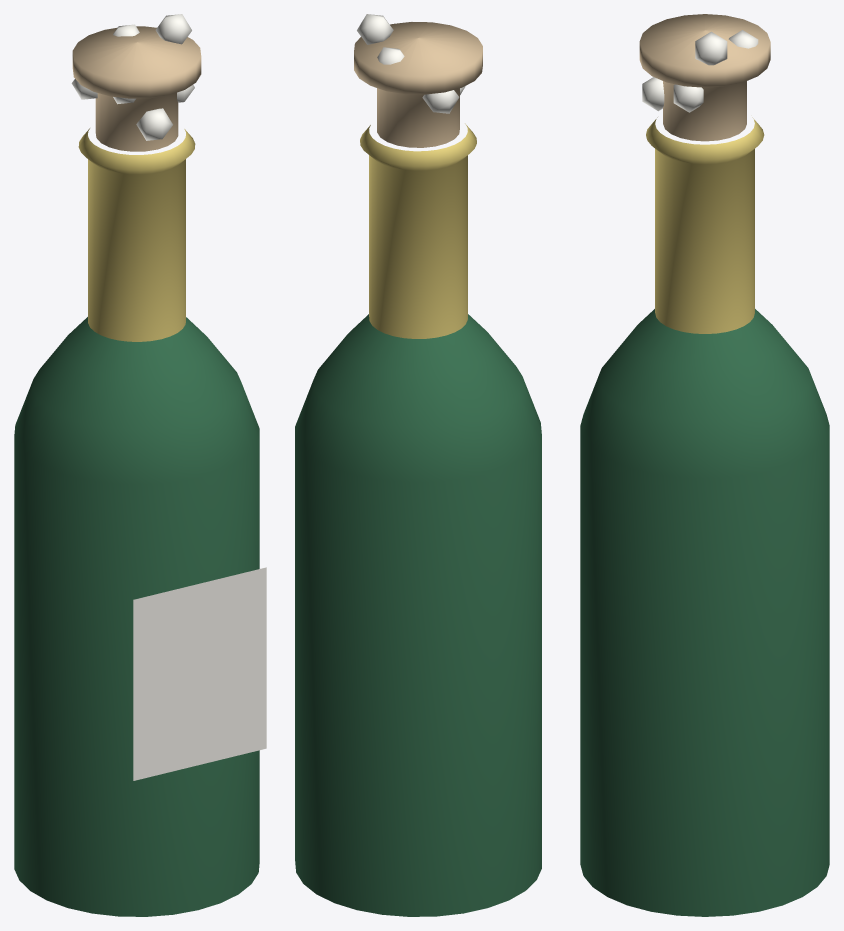
File: champagne.glb
The picture shows the model from 3 angles, left to right: view 1: azimuth 30°, elevation 25°; view 2: azimuth 150°, elevation 25°; view 3: azimuth 270°, elevation 25°; orthographic projection.
Visible parts, largest first — view 1: Bottle, Cork, FoamBurst5, FoamBurst4; view 2: Bottle, Cork, FoamBurst4, FoamBurst3; view 3: Bottle, Cork, FoamBurst4, FoamBurst0, FoamBurst5.
Boxes of the visible parts, bbox=[...] form: Bottle: bbox=[14, 128, 266, 916]; Cork: bbox=[72, 26, 201, 151]; FoamBurst5: bbox=[136, 108, 172, 140]; FoamBurst4: bbox=[155, 14, 191, 44]; Bottle: bbox=[295, 123, 541, 916]; Cork: bbox=[354, 22, 482, 147]; FoamBurst4: bbox=[357, 14, 393, 44]; FoamBurst3: bbox=[422, 90, 459, 113]; Bottle: bbox=[580, 117, 829, 916]; Cork: bbox=[639, 14, 770, 141]; FoamBurst4: bbox=[695, 31, 727, 65]; FoamBurst0: bbox=[673, 84, 703, 112]; FoamBurst5: bbox=[642, 77, 664, 111].
Size of what is drawn, in the model's own units: 0.8 by 3 by 0.81.
